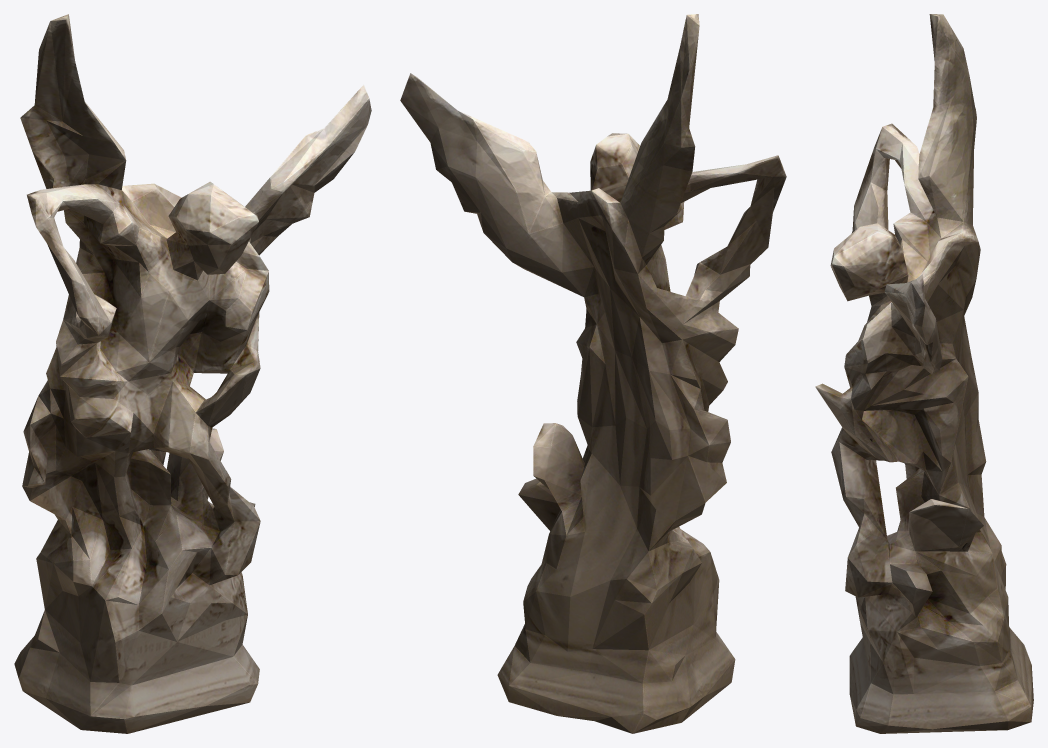
3 renders of one model, left to right at view 1: azimuth 30°, elevation 25°; view 2: azimuth 150°, elevation 25°; view 3: azimuth 270°, elevation 25°, orthographic. The views are drawn at different scales.
Parts seen in each view (by area): view 1: Archangel_reduced; view 2: Archangel_reduced; view 3: Archangel_reduced.
Boxes of the visible parts, <box> form: Archangel_reduced: <box>14,14,371,733</box>; Archangel_reduced: <box>400,14,786,733</box>; Archangel_reduced: <box>815,14,1033,733</box>.
Size of the model in its own units: 197 by 359 by 110.
Materials: 1 (1 with a texture image).
